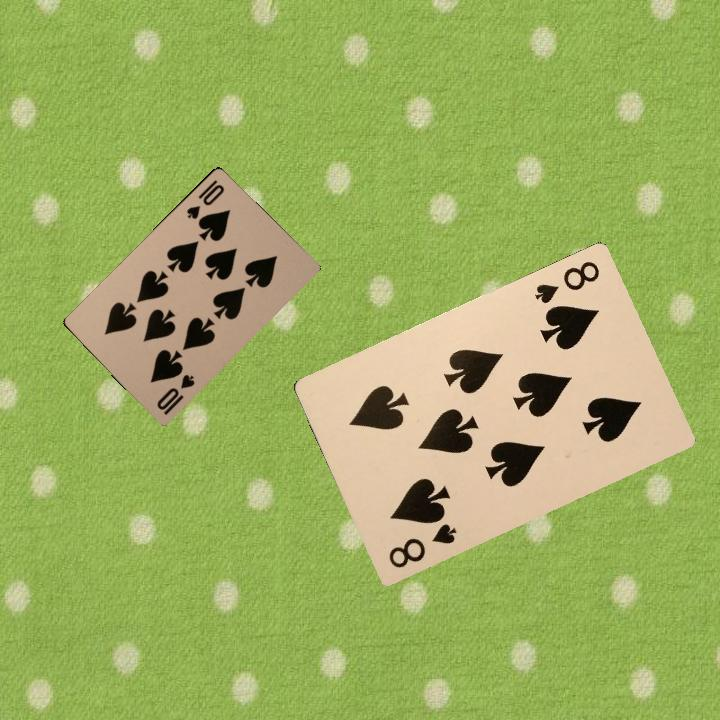10s: (153, 370, 197, 418), (182, 176, 227, 222)
8s: (384, 519, 460, 571), (531, 256, 602, 306)
